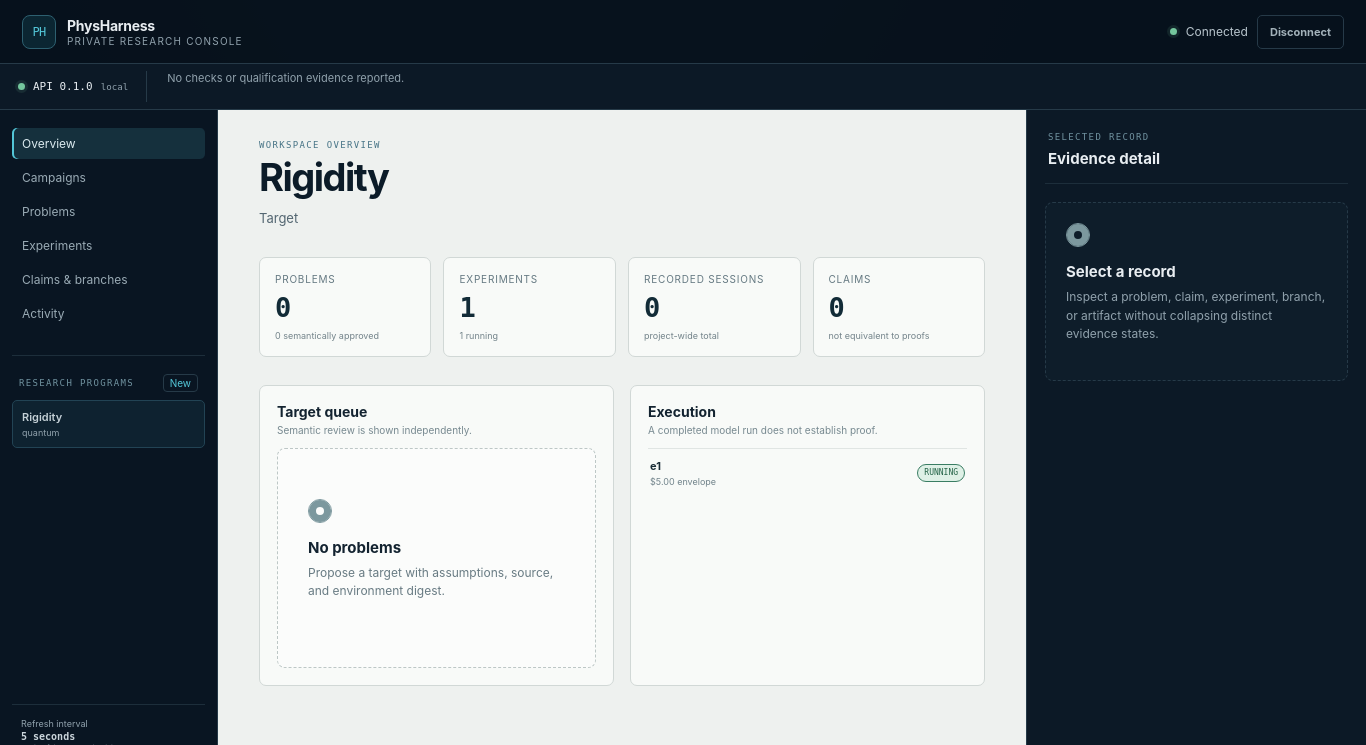
Test: does not reload collections when the event cursor is unchanged, but refreshes the selected ledger
Click the button with aria-label "open experiment rigidity" at (695, 481), box [648,448,967,497]
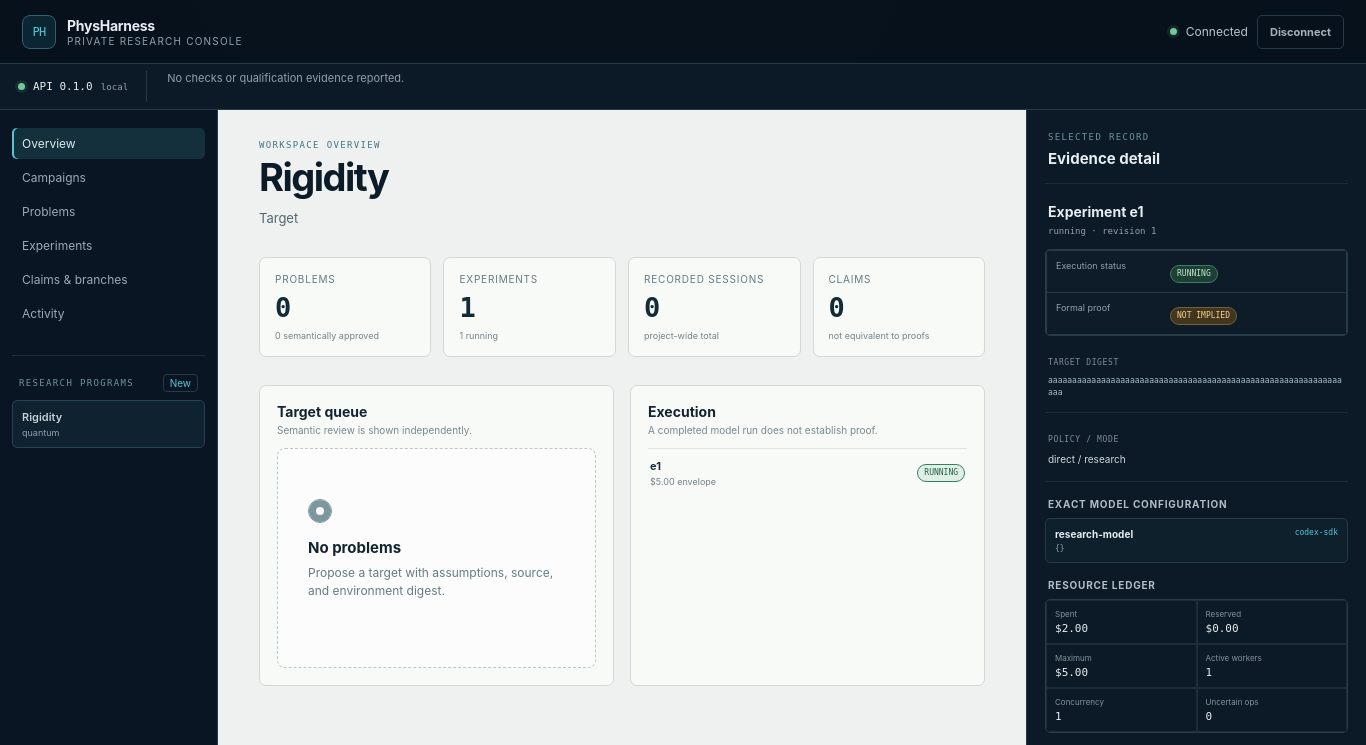
Check: the text "$2.00" is shown, box [1055,622,1088,635]
